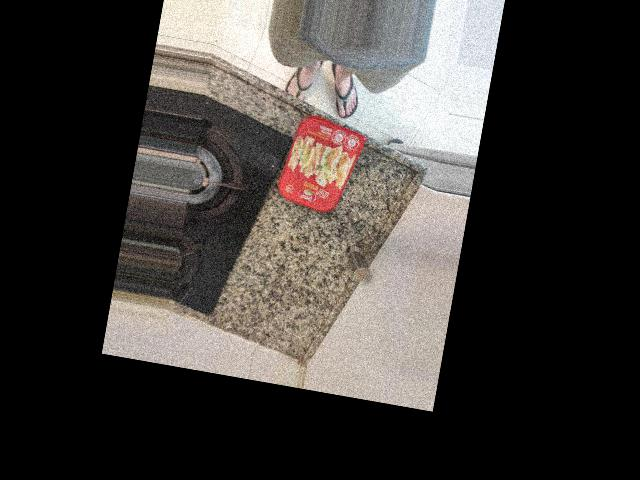cheese: (243, 186, 341, 312)
